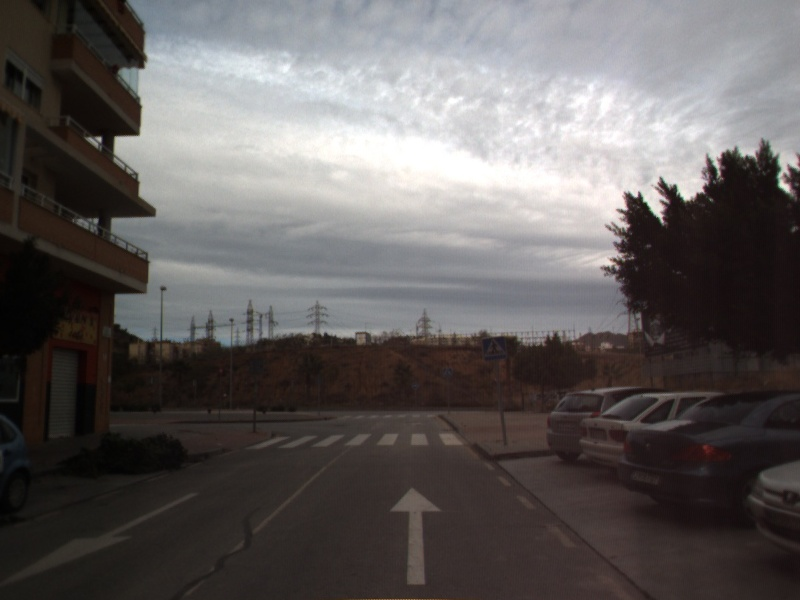STRAIGHT: (387, 485, 445, 587)
